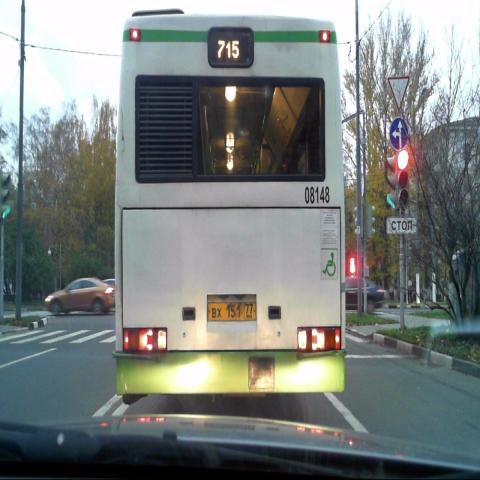4_1_5: (389, 118, 408, 150)
